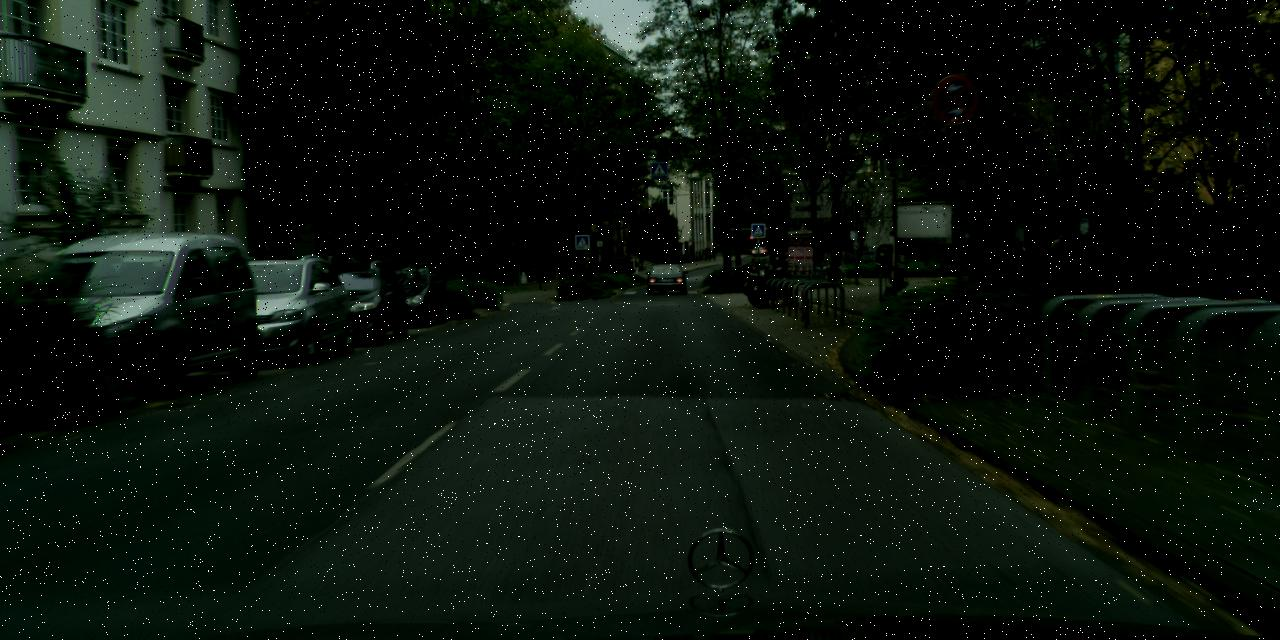ped: (1050, 234, 1067, 276), (630, 257, 638, 275), (702, 248, 712, 260), (712, 246, 718, 261), (751, 256, 755, 266)
